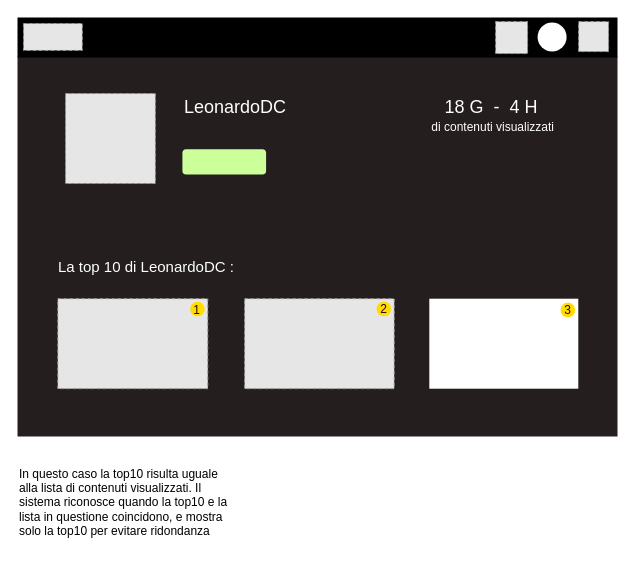
The diagram is 634 pixels wide and 564 high, and some of its shapes have lost their labels. Grey dashed boxes stand in for pictures. Each missing label, with the centre of its shape:
"Invia richiesta" belongs at (224,161).
"KP" belongs at (551,36).
